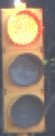Red: (3, 5, 48, 133)
